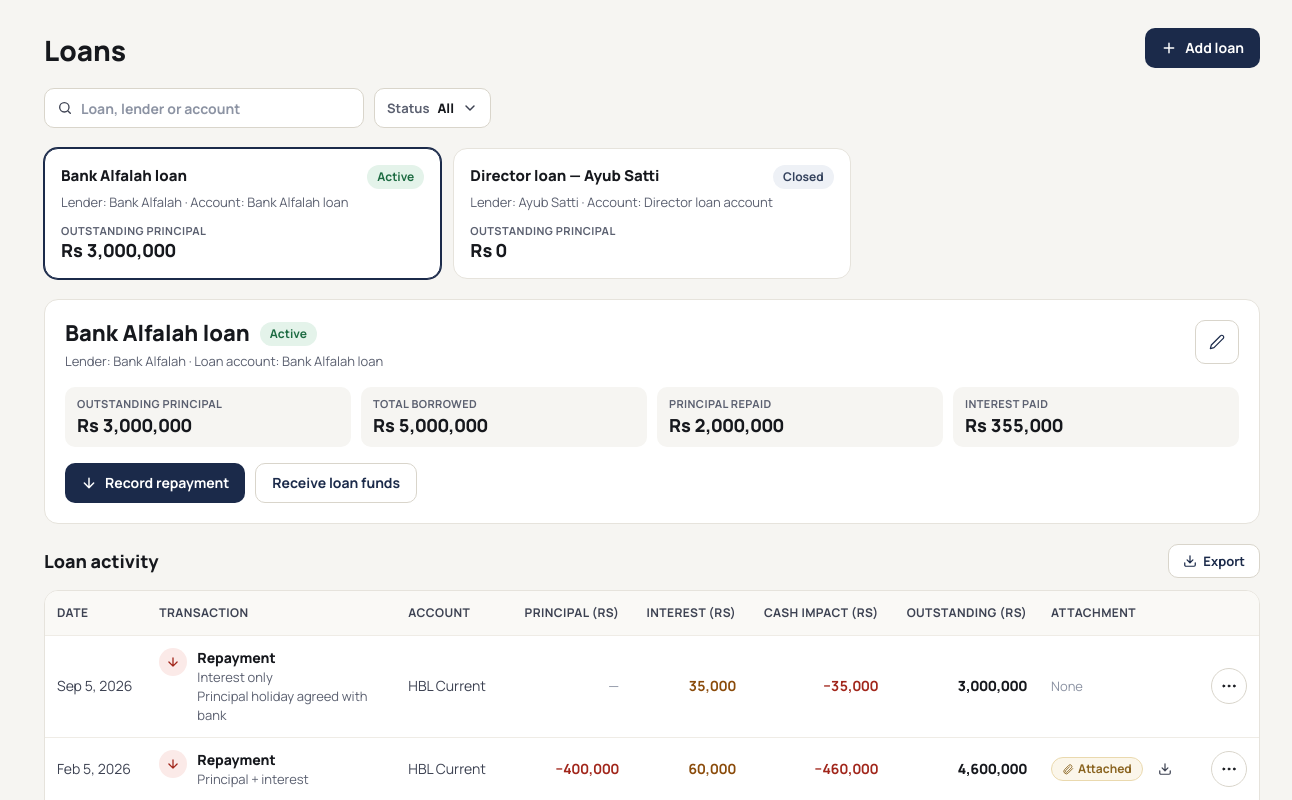
Test: Loans: the list and the open loan › opens another loan from its card, by address
Check: the text "Sep 5, 2026" is shown, box [45,636,147,737]
Click the button "Director loan — Ayub Satti": (652, 214) [453,148,851,279]
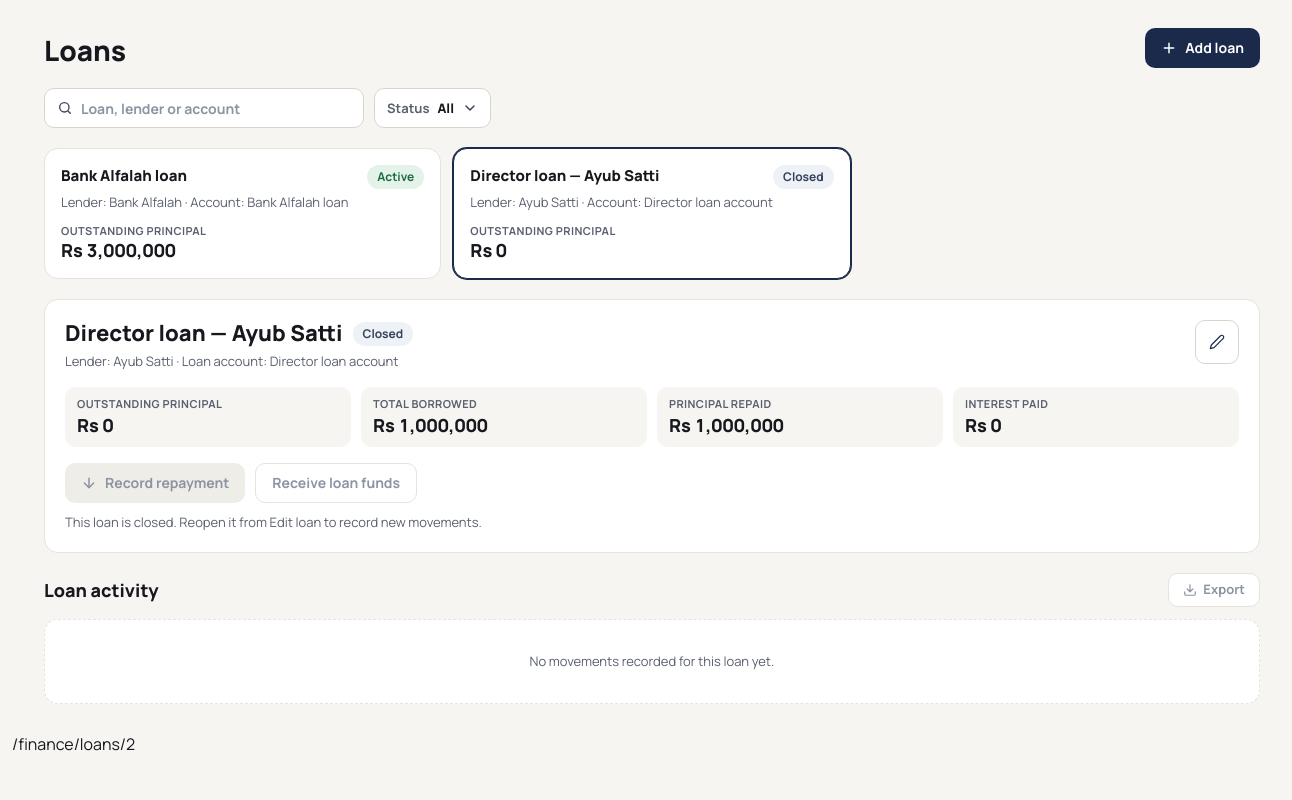
Check: the text with test id "where" reads "/finance/loans/2", box [12,733,135,755]
Check: the heading "Director loan — Ayub Satti" is shown, box [65,320,342,348]
Check: the text "No movements recorded for this loan yet." is shown, box [44,619,1260,704]
